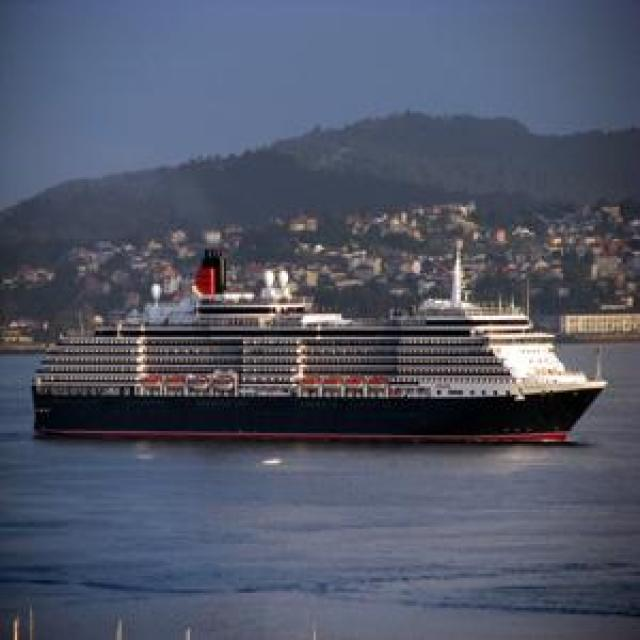passenger ship: (20, 264, 600, 446)
